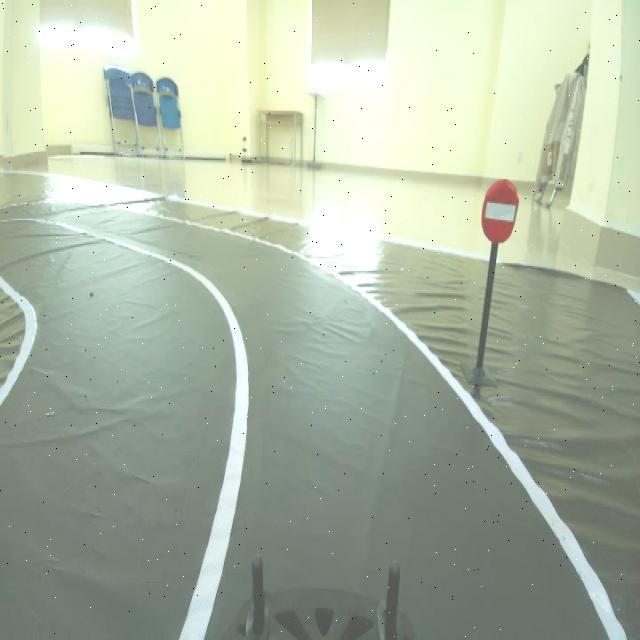no_entry: (478, 167, 524, 248)
